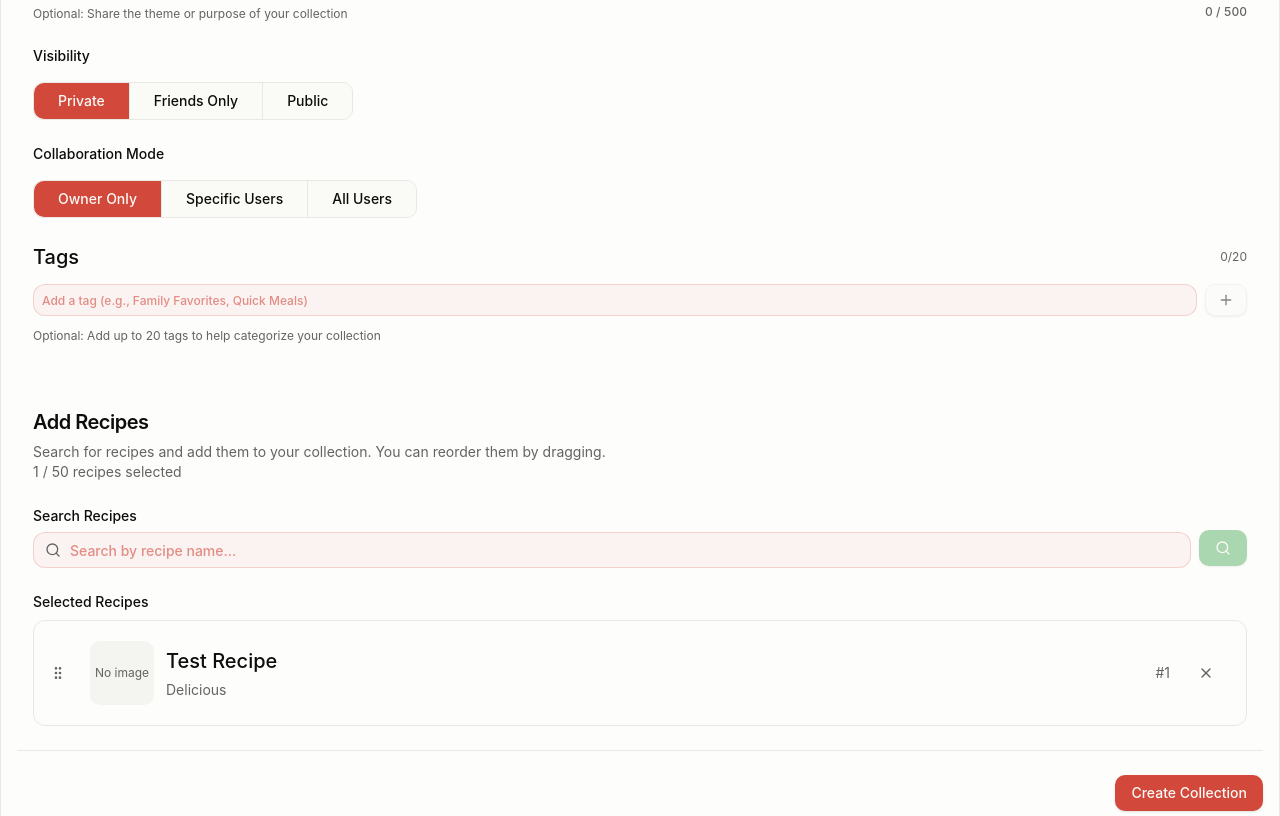
Test: CreateCollectionForm › Form Submission › should show error message on submission failure
The width and height of the screenshot is (1280, 816).
(page scrolled)
Click the button "Create Collection" at (1189, 793), box left=1115, top=775, right=1263, bottom=811
(page scrolled)
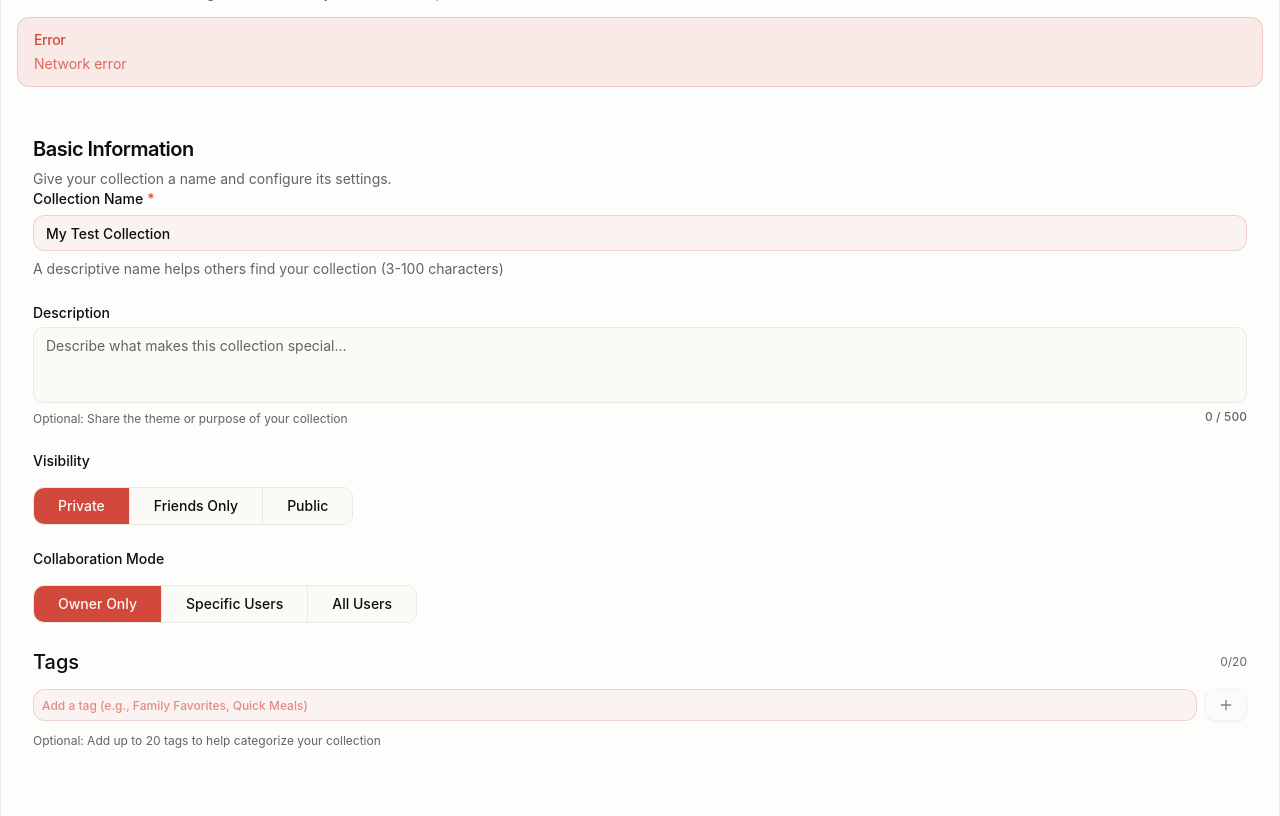
Now the text "Network error" is shown, box left=34, top=55, right=127, bottom=72
